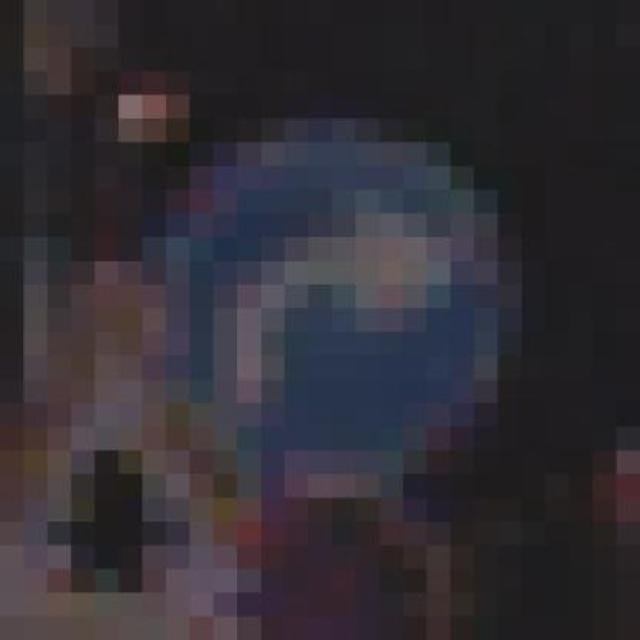Turn right ahead: (142, 95, 569, 522)
